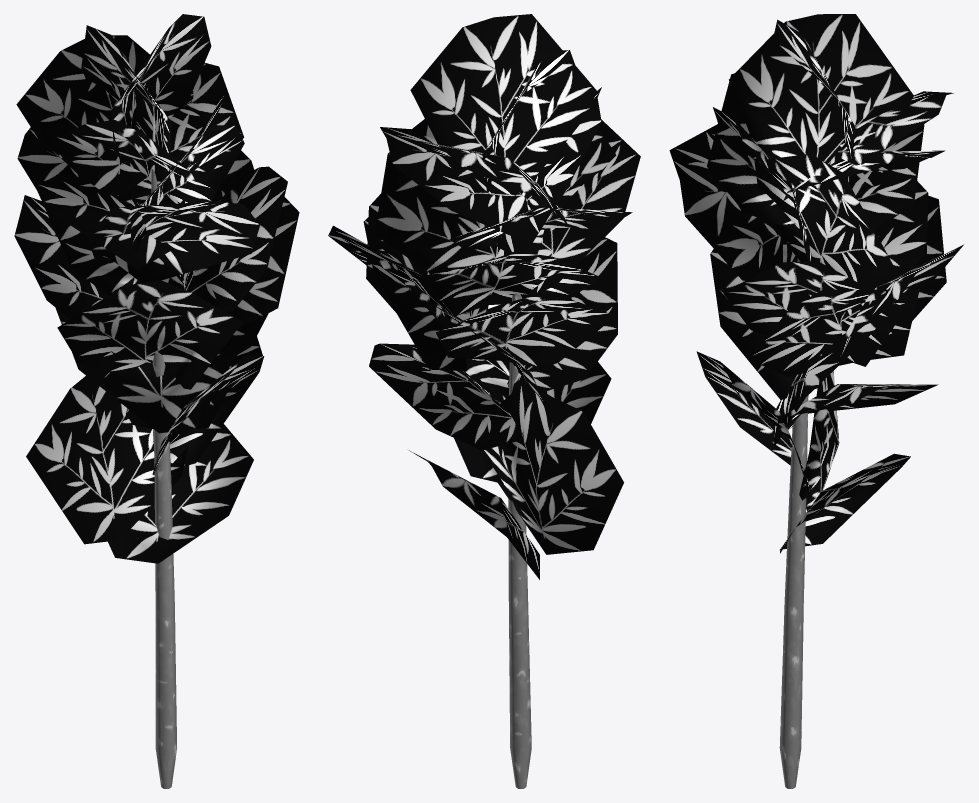
File: P_BambooSapling2.obj
3 views of the same model, side by side, from view 1: azimuth 30°, elevation 25°; view 2: azimuth 150°, elevation 25°; view 3: azimuth 270°, elevation 25° (orthographic).
Size of the model in its own units: 3.18 by 8.95 by 3.13.
